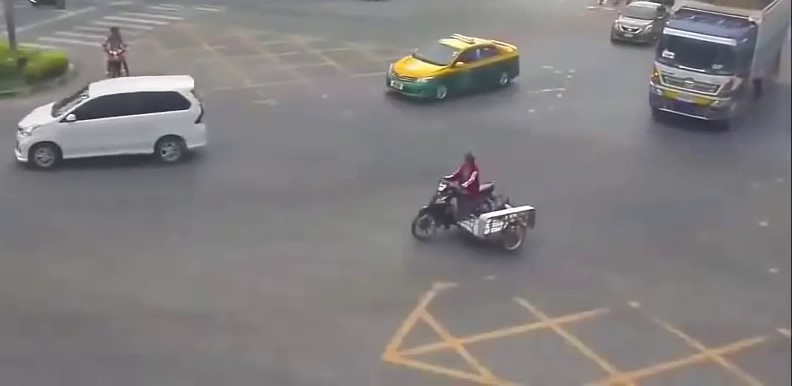car: (16, 75, 211, 172), (653, 1, 785, 130), (387, 33, 521, 102), (611, 3, 669, 50)
motorbike: (411, 152, 494, 242), (105, 26, 129, 78)
